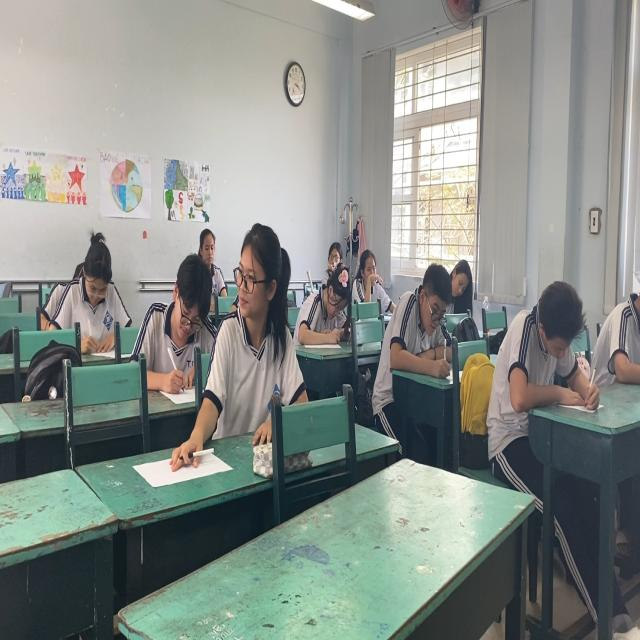cheating: (222, 212, 302, 423)
not_cheating: (494, 268, 585, 416), (146, 254, 226, 381), (55, 219, 132, 347), (389, 261, 455, 364), (298, 254, 356, 344), (193, 226, 229, 316), (352, 244, 397, 316), (446, 244, 474, 309)
